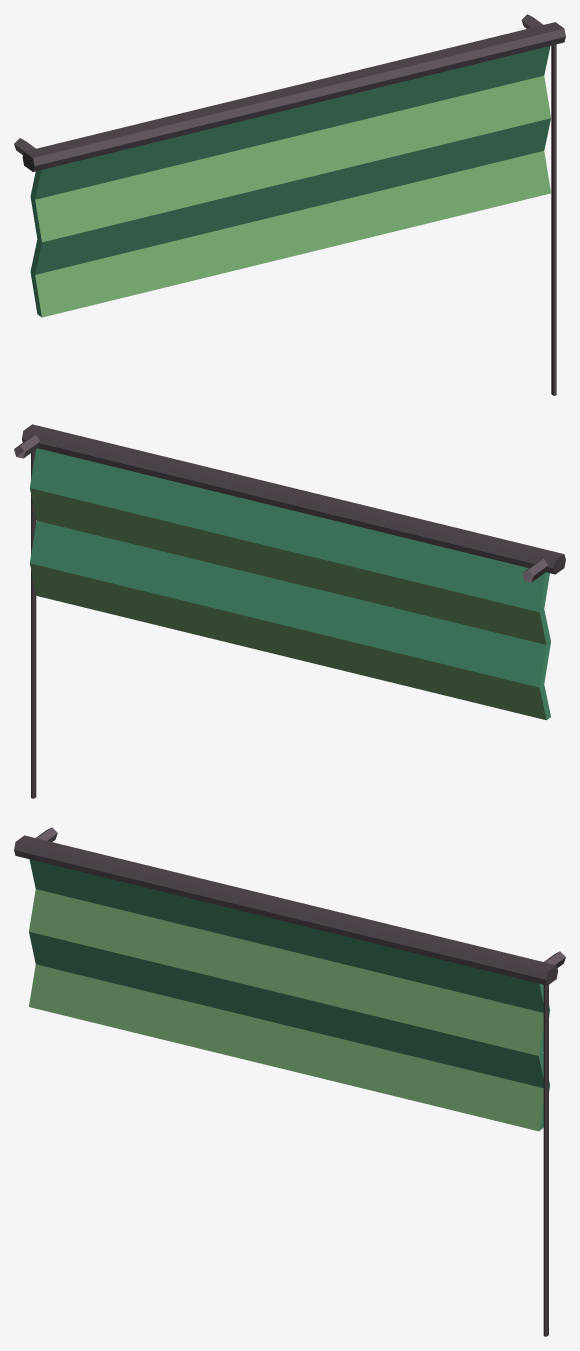
The model's file is Blinds for Big window.fbx.
3 renders of one model, top to bottom at view 1: azimuth 30°, elevation 25°; view 2: azimuth 150°, elevation 25°; view 3: azimuth 330°, elevation 25°, orthographic.
Parts seen in each view (by area): view 1: Blinds for Big window; view 2: Blinds for Big window; view 3: Blinds for Big window.
Boxes of the visible parts, bbox=[...] form: Blinds for Big window: bbox=[14, 14, 565, 395]; Blinds for Big window: bbox=[14, 424, 565, 798]; Blinds for Big window: bbox=[14, 827, 565, 1336].
Bounding box in the file's own units: 468 × 310 × 40.25.
